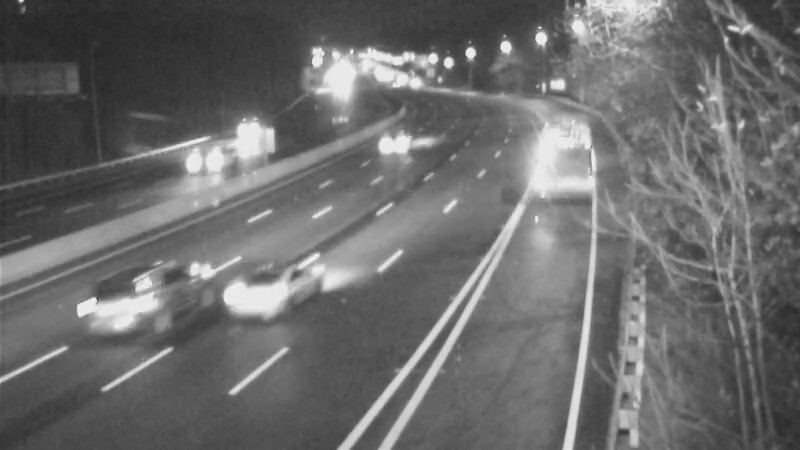vehicle: (77, 254, 187, 364), (506, 119, 586, 199), (222, 249, 302, 329), (160, 130, 240, 210), (381, 114, 431, 164), (229, 109, 279, 159)
